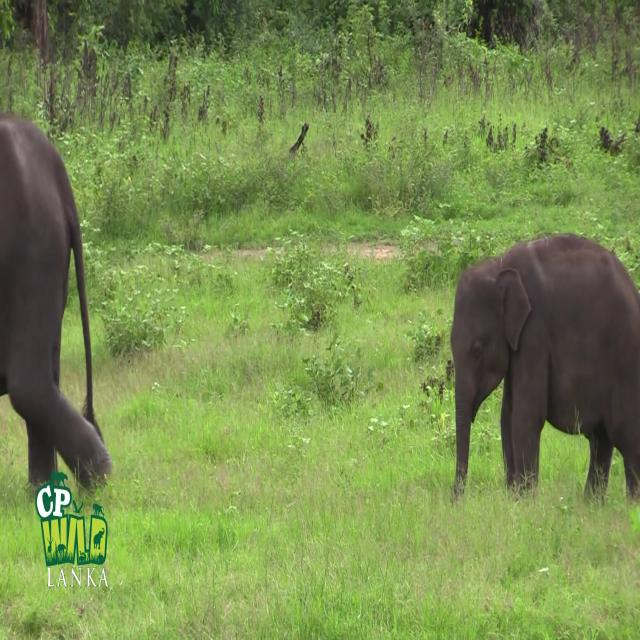Elephant: (450, 231, 639, 509), (0, 110, 112, 496)
